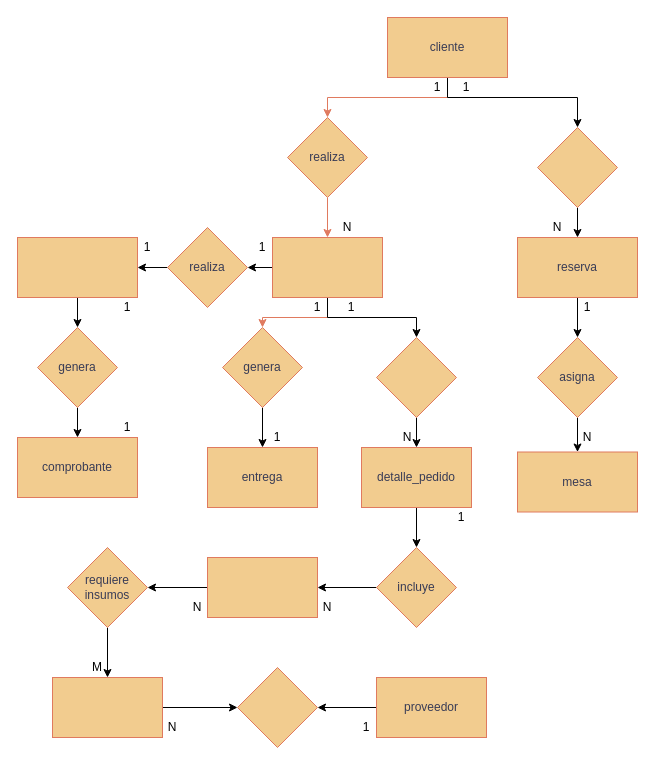
Some shapes in this 655 by 765 pixel diagram are drawn without their labels. The shapes that lost their labels are listed below. From the top down, each one's box as (x1, y1, x2, y2) in pixels, then its label:
(536, 126, 618, 208): solicita
(16, 236, 138, 298): pagos
(272, 236, 382, 298): pedidos
(376, 336, 456, 418): contiene
(206, 556, 318, 618): platos
(52, 676, 162, 738): insumos
(236, 666, 318, 748): suministra
